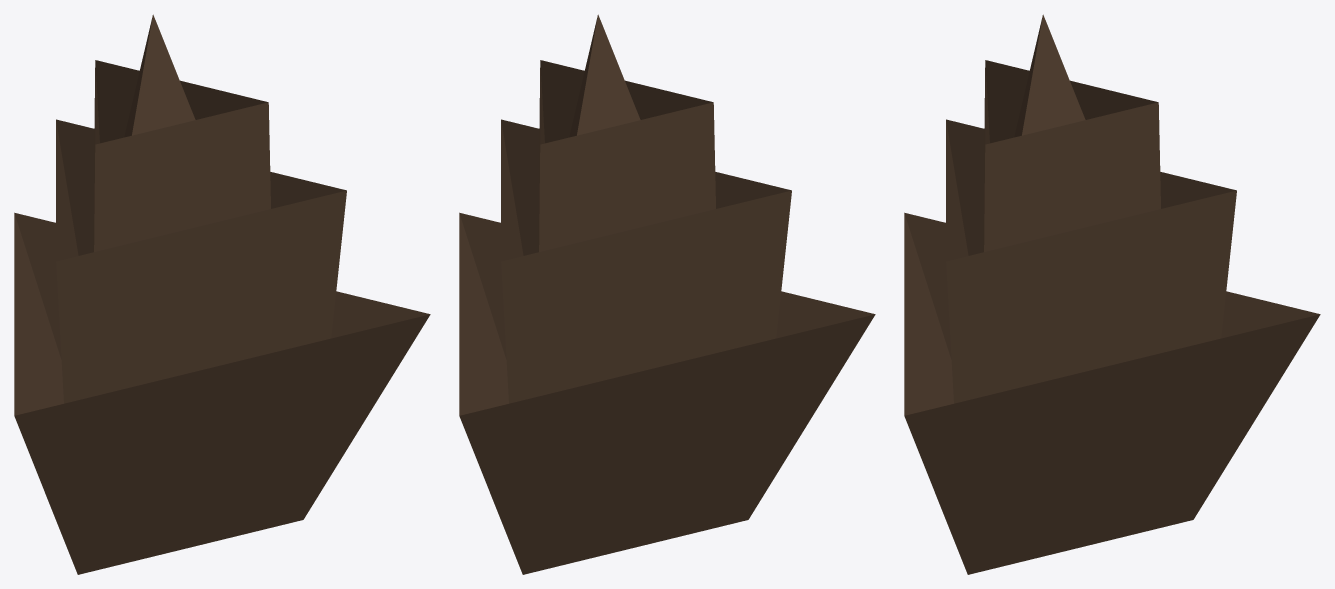
File: SM_Pinecone_fbx_LOD01.fbx
3 renders of one model, left to right at view 1: azimuth 30°, elevation 25°; view 2: azimuth 150°, elevation 25°; view 3: azimuth 270°, elevation 25°, orthographic.
Parts seen in each view (by area): view 1: Pinecone; view 2: Pinecone; view 3: Pinecone.
Part boxes in pixels (box(x1,y1,x2,y2)): Pinecone: box(14, 14, 430, 574); Pinecone: box(459, 14, 875, 574); Pinecone: box(904, 14, 1320, 574).
Size of the model in its own units: 66.05 by 57.2 by 76.68.
